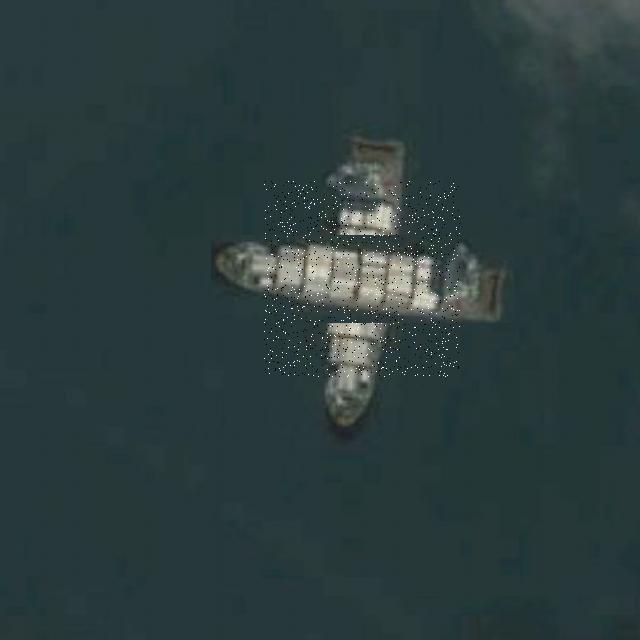boat: (264, 181, 460, 377)
